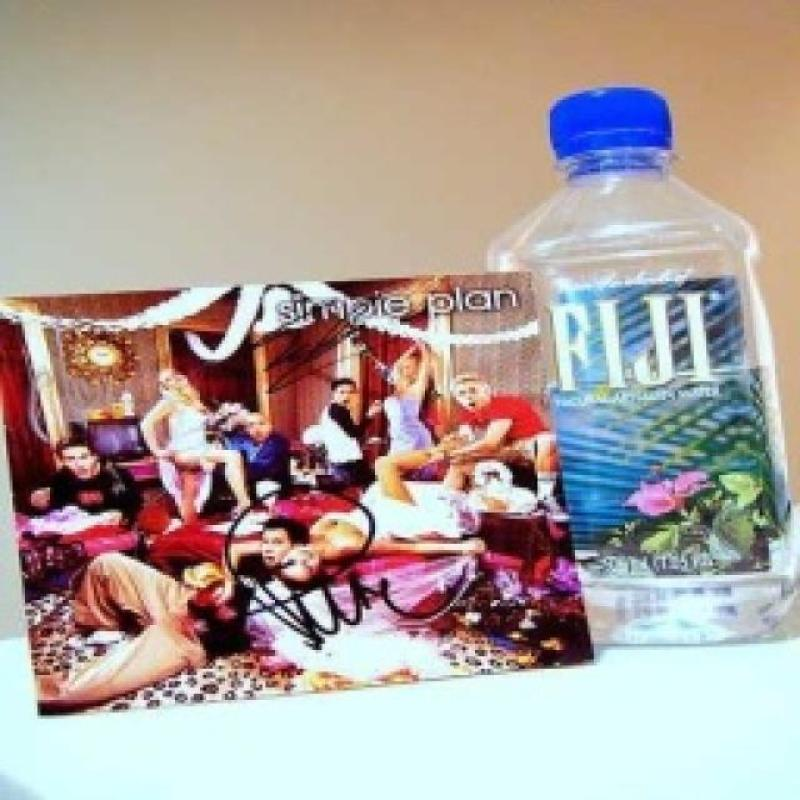botella: (477, 87, 800, 643)
